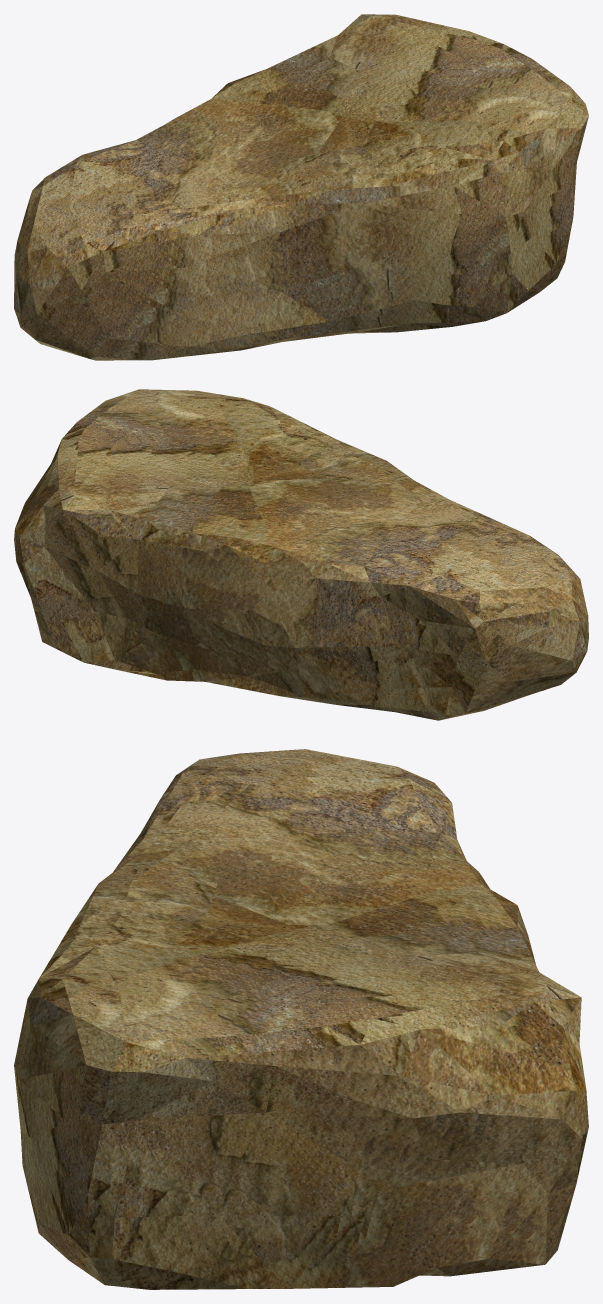
Rendered from Stone3.fbx.
3 renders of one model, top to bottom at view 1: azimuth 30°, elevation 25°; view 2: azimuth 150°, elevation 25°; view 3: azimuth 270°, elevation 25°, orthographic. The views are drawn at different scales.
Visible parts, largest first — view 1: skp135_1; view 2: skp135_1; view 3: skp135_1.
Part boxes in pixels (x1,y1,x2,y2): skp135_1: [14, 14, 588, 360]; skp135_1: [14, 389, 588, 720]; skp135_1: [14, 749, 588, 1289].
Bounding box in the file's own units: 0.5451 × 0.1858 × 0.3287.
